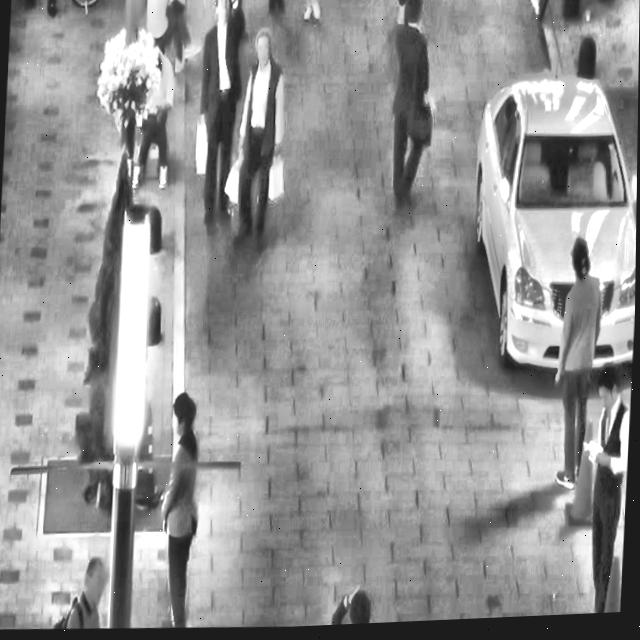light_vehicle: (460, 56, 639, 388)
